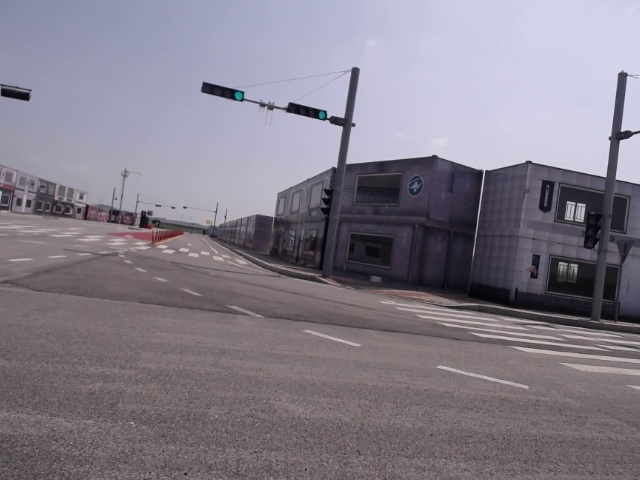straight_green_4: (199, 80, 246, 104), (285, 102, 329, 122)
